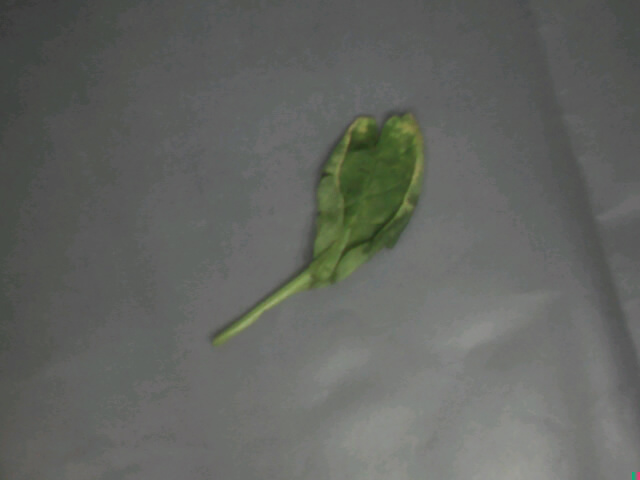yellow: (248, 92, 440, 324)
